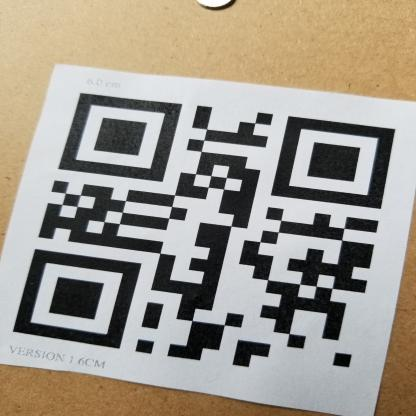qr: (9, 88, 402, 388)
